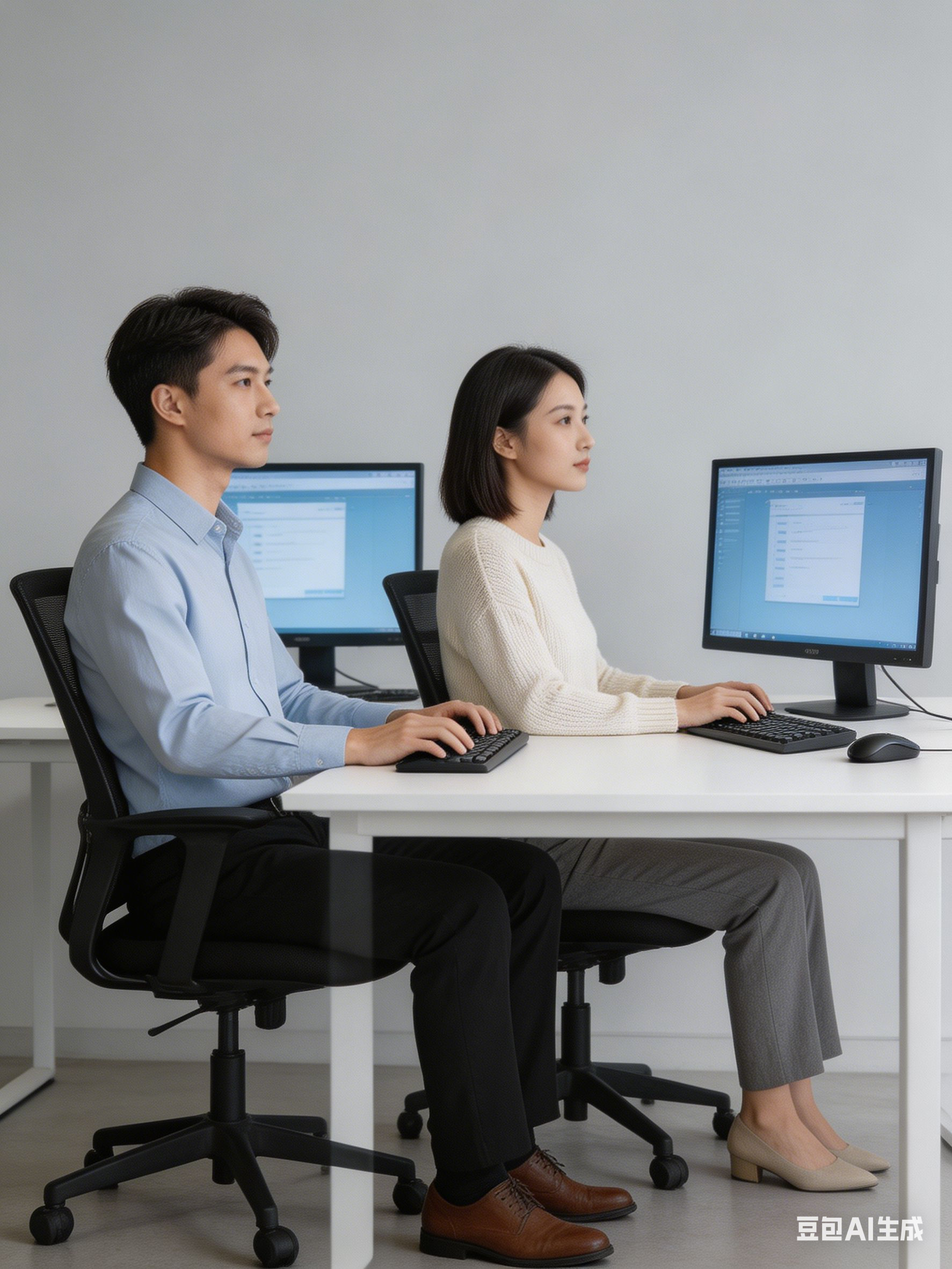sitting_good: (53, 274, 428, 1047), (383, 303, 766, 751)
